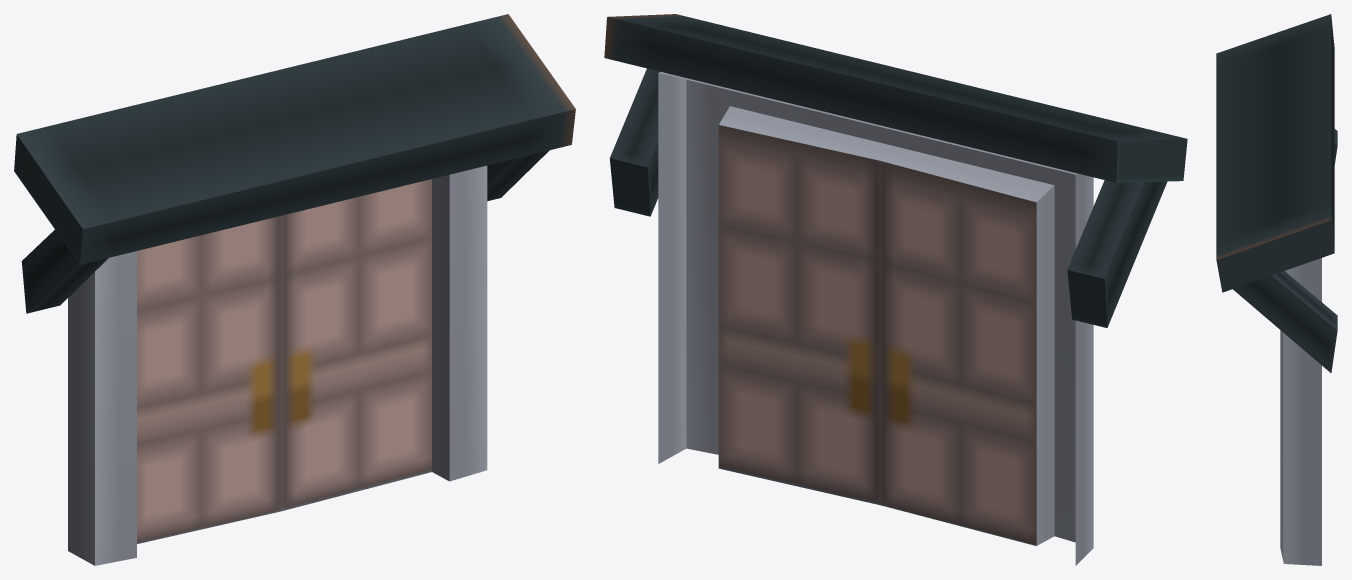
Rendered from door_church.fbx.
3 views of the same model, side by side, from view 1: azimuth 30°, elevation 25°; view 2: azimuth 150°, elevation 25°; view 3: azimuth 270°, elevation 25° (orthographic). The views are drawn at different scales.
Visible parts, largest first — view 1: door_church; view 2: door_church; view 3: door_church.
Part boxes in pixels (bbox=[...]): door_church: bbox=[14, 14, 575, 565]; door_church: bbox=[604, 14, 1187, 565]; door_church: bbox=[1216, 14, 1337, 565].
Bounding box in the file's own units: 245 × 202 × 60.78.
